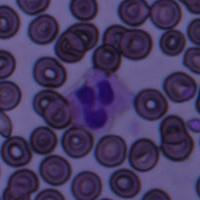N: (68, 69, 132, 136)
